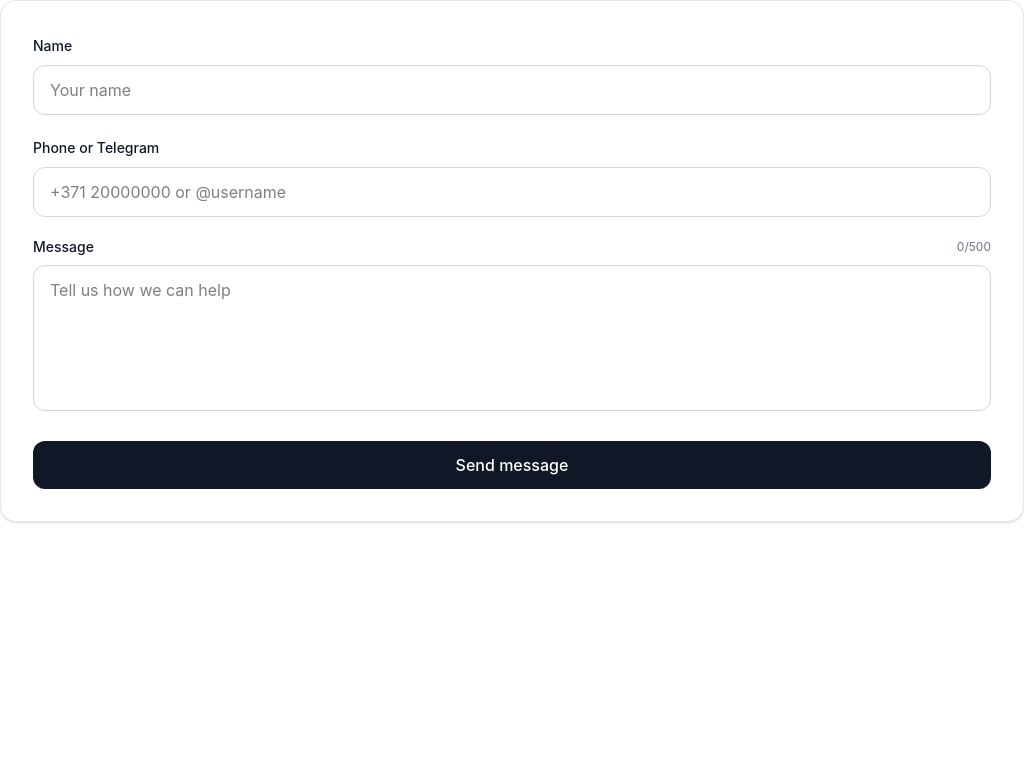
ContactForm › shows validation error for invalid contact
Type "John" into the field labelled "Name" at (512, 90), box [33, 65, 991, 115]
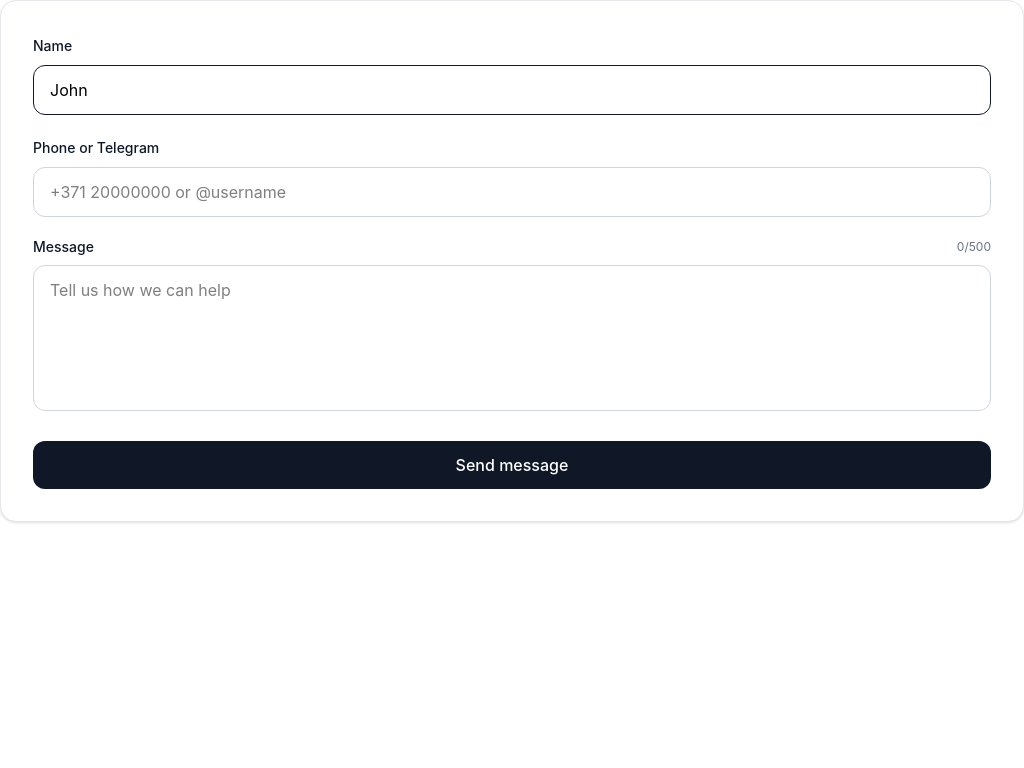
Type "invalid" into the field labelled "Phone or Telegram" at (512, 192), box [33, 167, 991, 217]
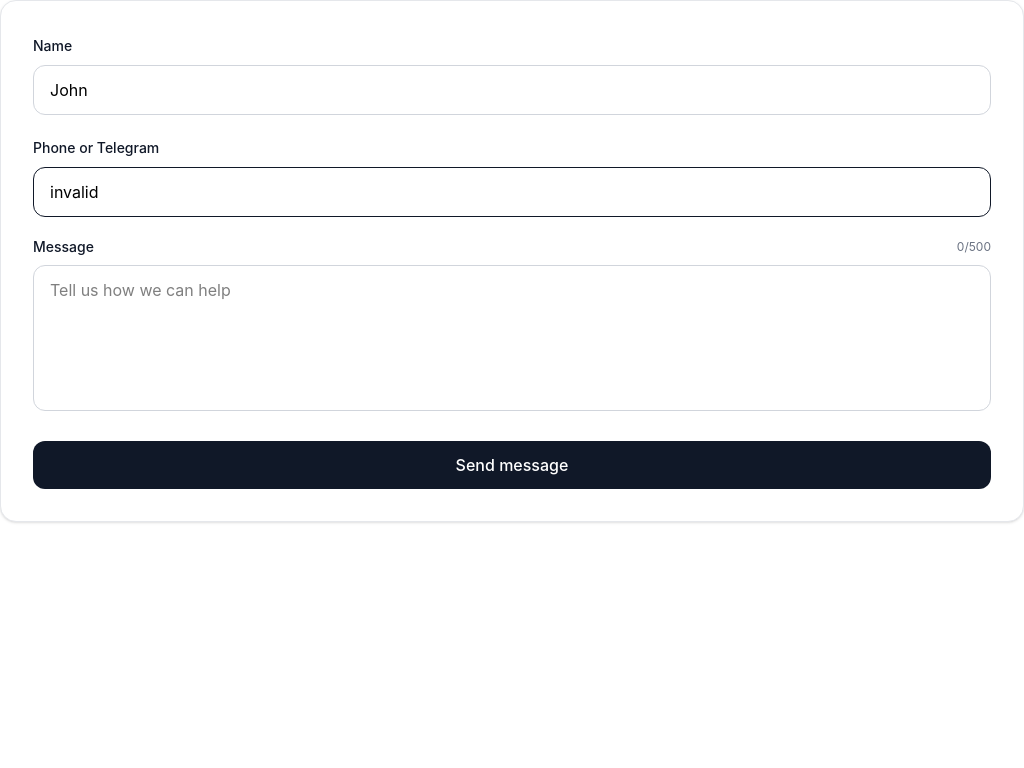
Click the button "Send message" at (512, 465), box [33, 441, 991, 489]
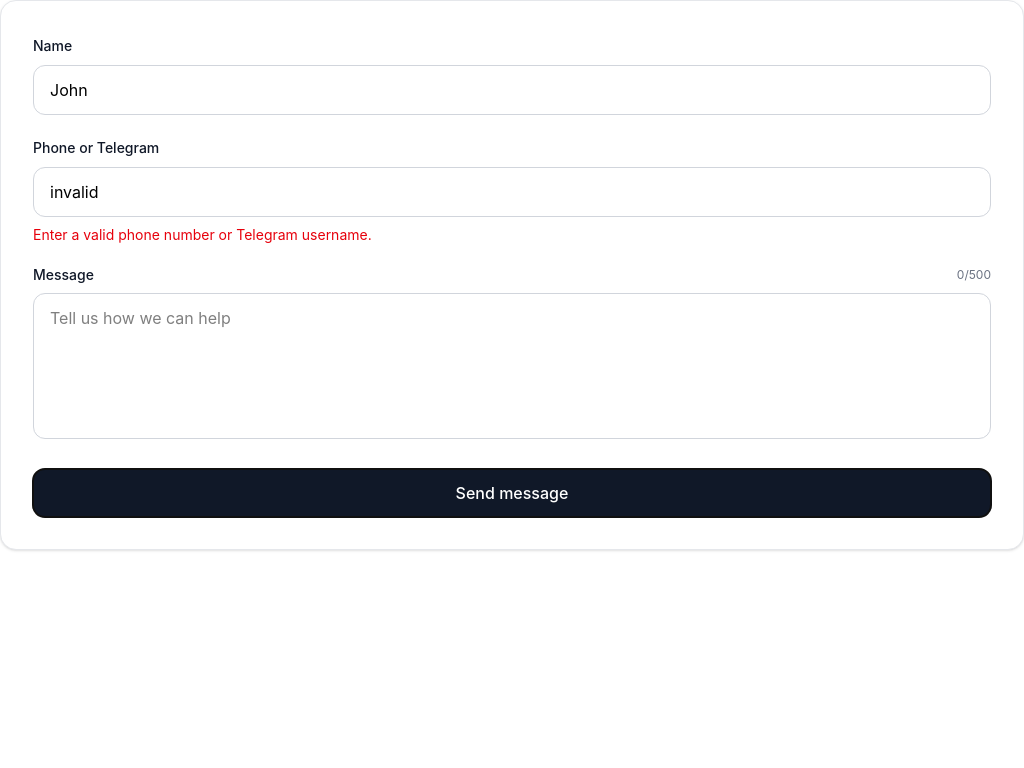
Now the text "Enter a valid phone number or Telegram username." is shown, box [33, 226, 372, 243]
